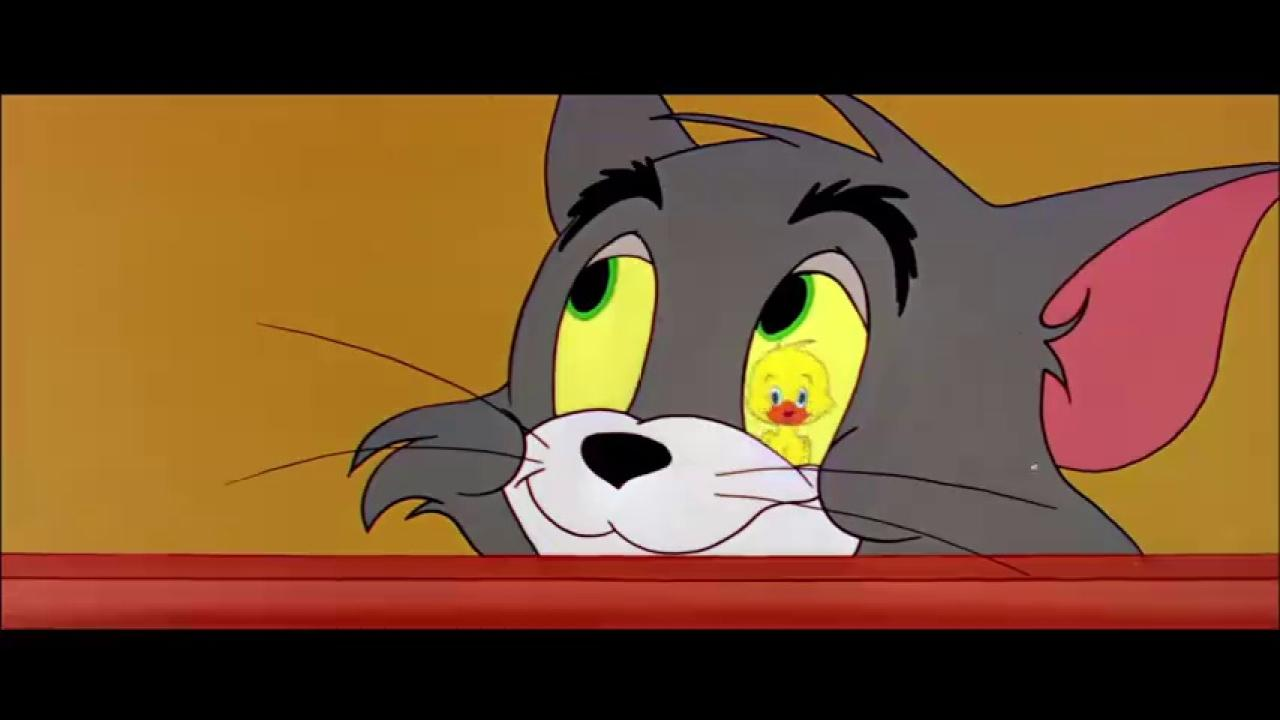Tom: (346, 93, 1280, 555)
